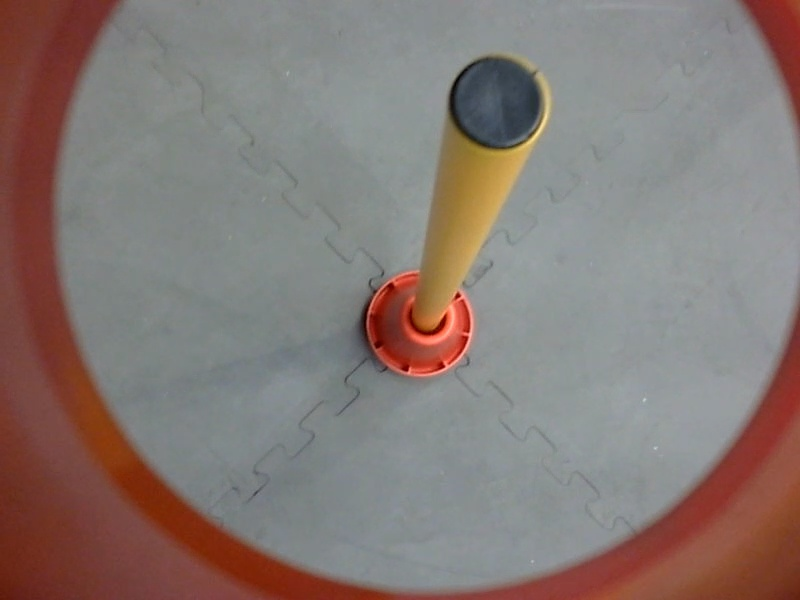tip: (440, 46, 560, 158)
